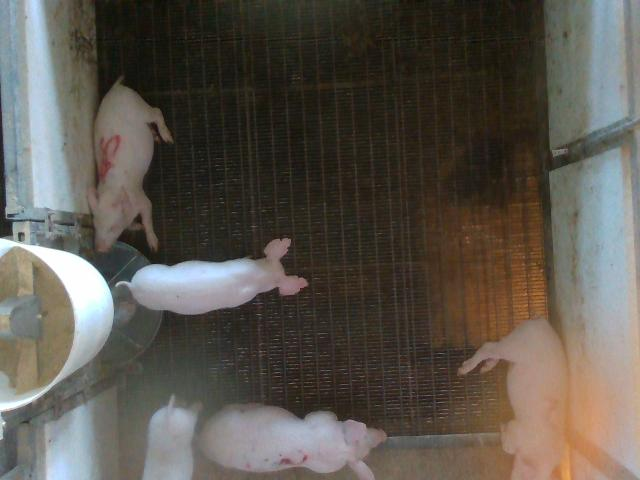pig-2: (458, 319, 569, 478)
pig-3: (199, 404, 386, 479)
pig-5: (88, 78, 172, 251)
